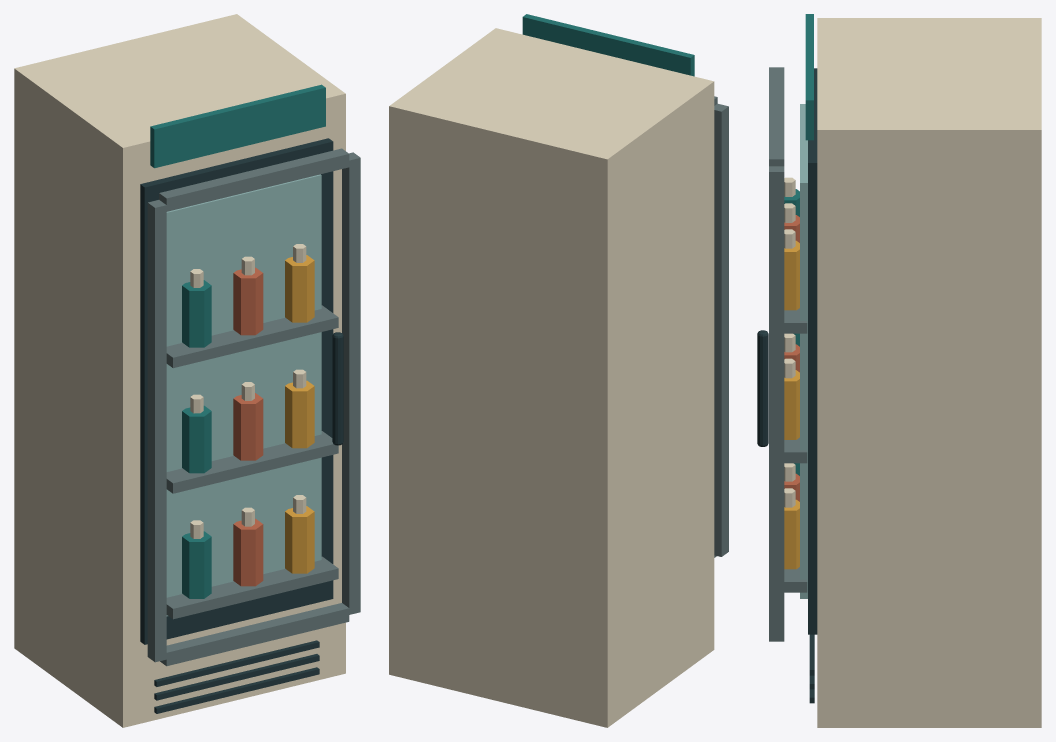
The model's file is display-fridge-near.glb.
3 views of the same model, side by side, from view 1: azimuth 30°, elevation 25°; view 2: azimuth 150°, elevation 25°; view 3: azimuth 270°, elevation 25° (orthographic). The views are drawn at different scales.
Visible parts, largest first — view 1: display-fridge; view 2: display-fridge; view 3: display-fridge.
Part boxes in pixels (x1,y1,x2,y2): display-fridge: (14, 14, 360, 727); display-fridge: (389, 14, 728, 727); display-fridge: (757, 14, 1041, 727).
Size of the model in its own units: 0.78 by 2 by 0.8369.
